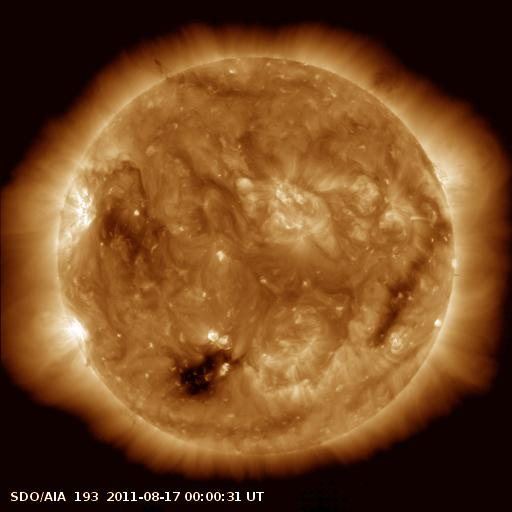coronal_hole: (170, 349, 228, 396)
